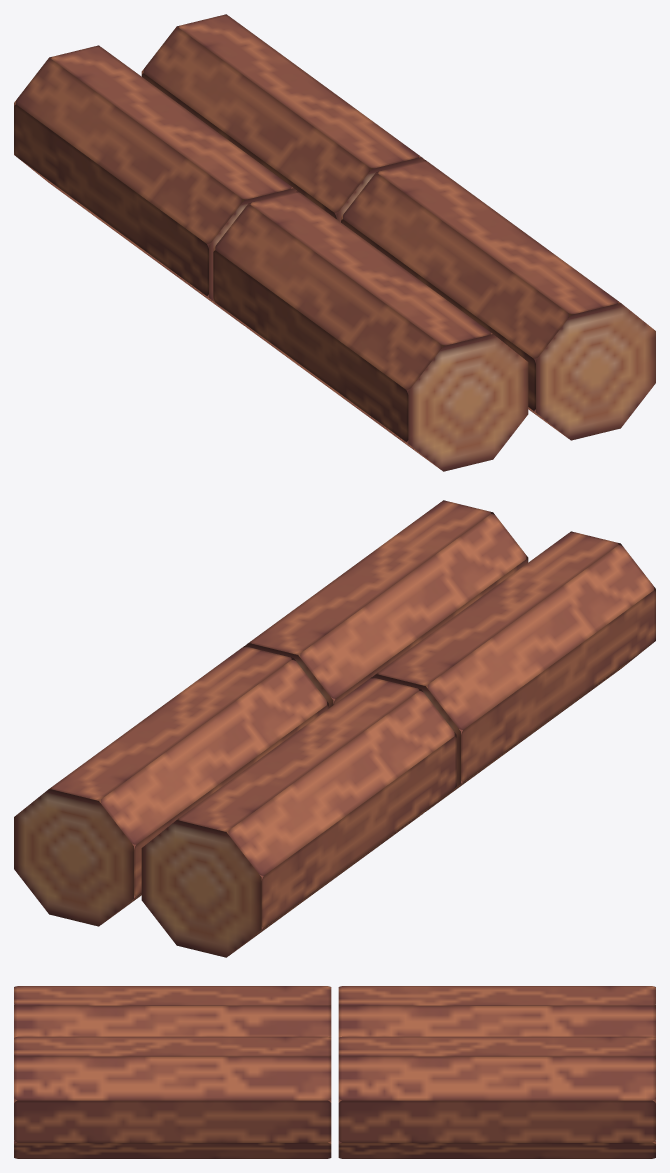
The model's file is Tronco_bridge.fbx.
The picture shows the model from 3 angles, top to bottom: view 1: azimuth 30°, elevation 25°; view 2: azimuth 150°, elevation 25°; view 3: azimuth 270°, elevation 25°; orthographic projection. The views are drawn at different scales.
Parts seen in each view (by area): view 1: troco4, troco3_1, troco3, troco2; view 2: troco3, troco2, troco4, troco3_1; view 3: troco2, troco3_1, troco3, troco4.
Part boxes in pixels (bbox=[...]): troco4: bbox=[213, 191, 528, 471]; troco3_1: bbox=[341, 160, 655, 440]; troco3: bbox=[14, 45, 297, 325]; troco2: bbox=[141, 14, 425, 222]; troco3: bbox=[141, 677, 456, 957]; troco2: bbox=[14, 646, 328, 926]; troco4: bbox=[372, 531, 655, 811]; troco3_1: bbox=[244, 500, 528, 708]; troco2: bbox=[338, 1036, 655, 1158]; troco3_1: bbox=[14, 1036, 331, 1158]; troco3: bbox=[338, 986, 655, 1037]; troco4: bbox=[14, 986, 331, 1037].
Size of the model in its own units: 206 by 100 by 569.
Materials: 1 (1 with a texture image).
